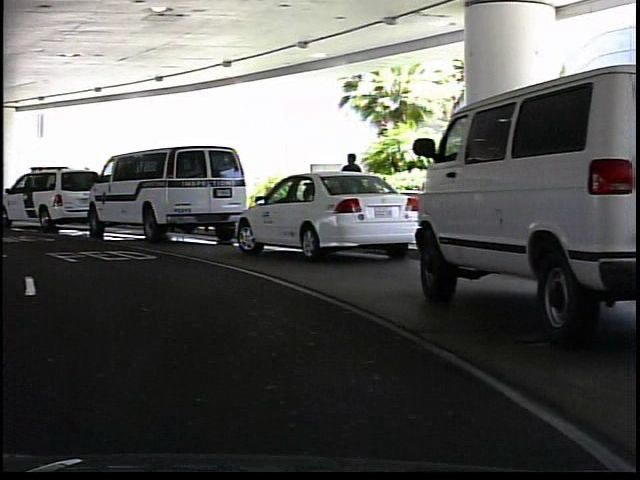person: (336, 149, 366, 236)
